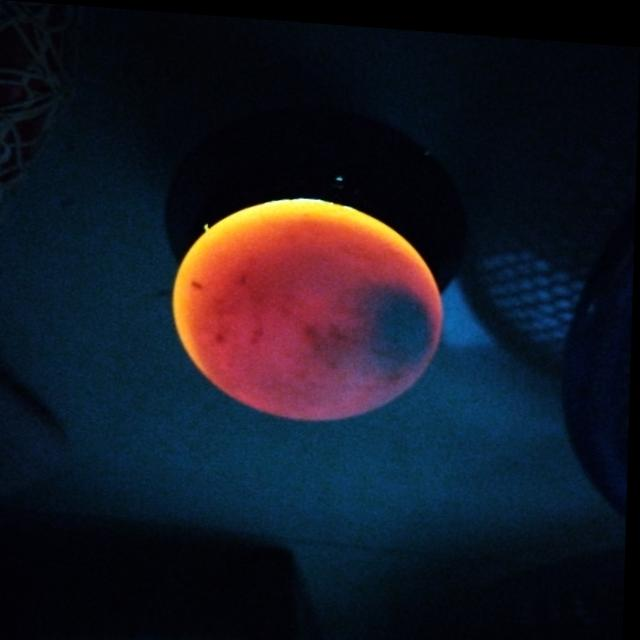Area Infectada: (308, 281, 439, 377)
